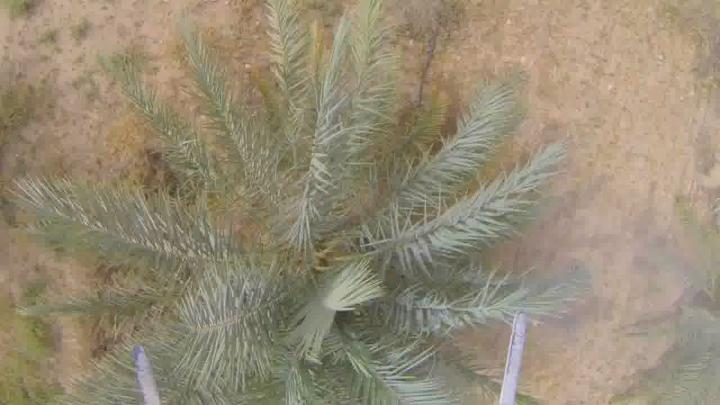Date-Palm-Crown: (163, 97, 485, 405)
